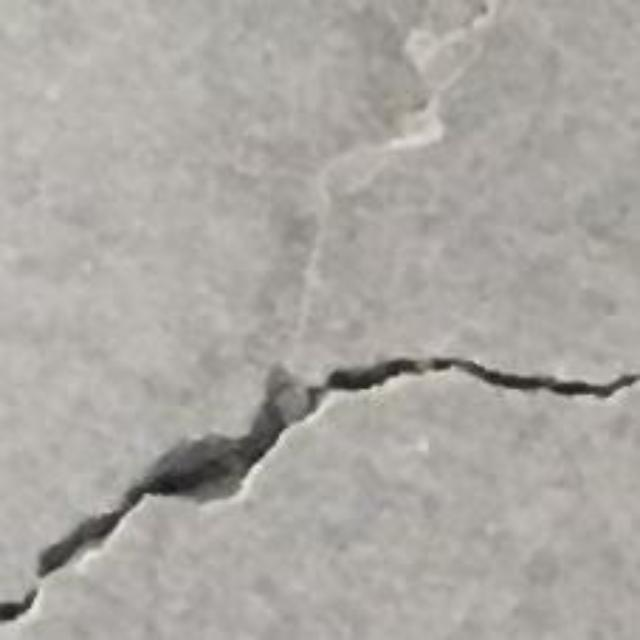crack: (0, 356, 639, 623)
